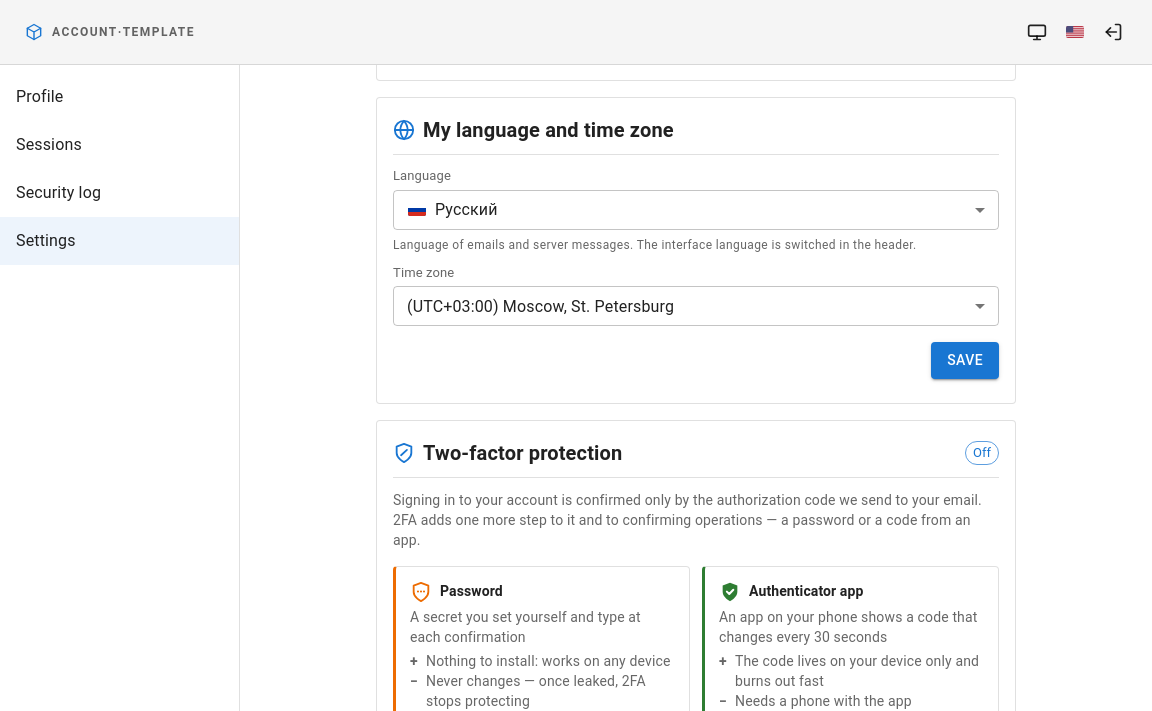
Test: SettingsPage › a 400 on a field highlights the matching select with the server text
The image size is (1152, 711).
(page scrolled)
Click the button "Save": click(965, 360) [931, 342, 999, 379]
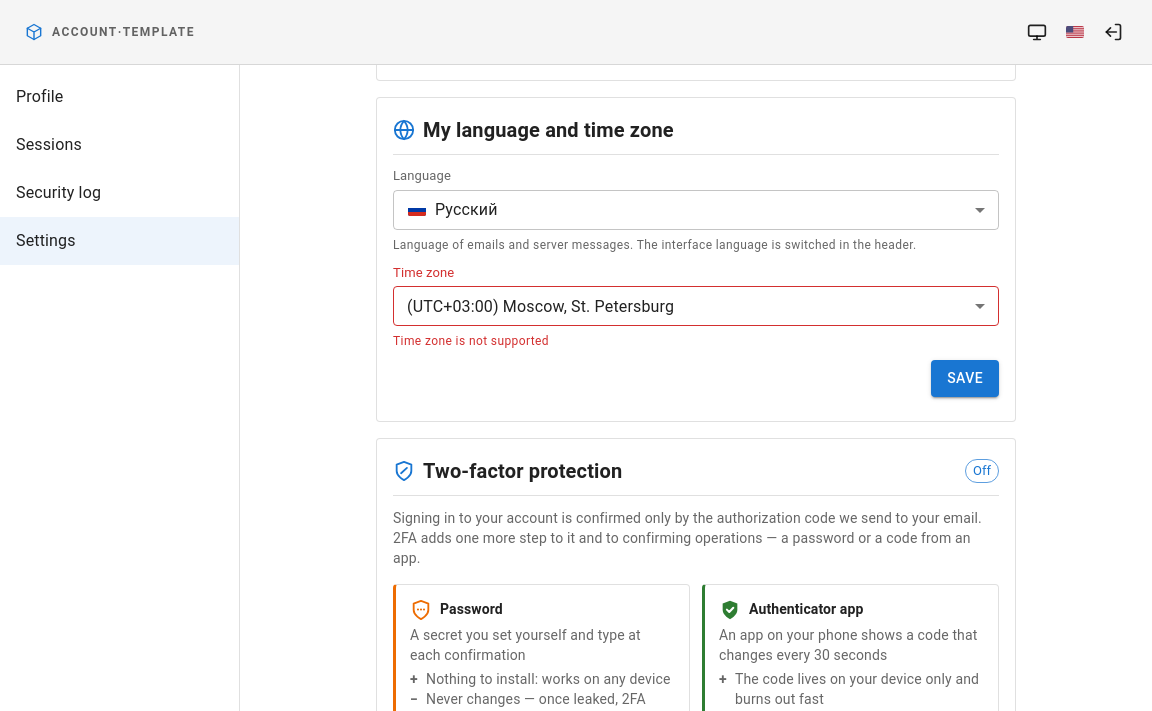
Check: the text "Time zone is not supported" is shown, box [393, 334, 549, 348]
